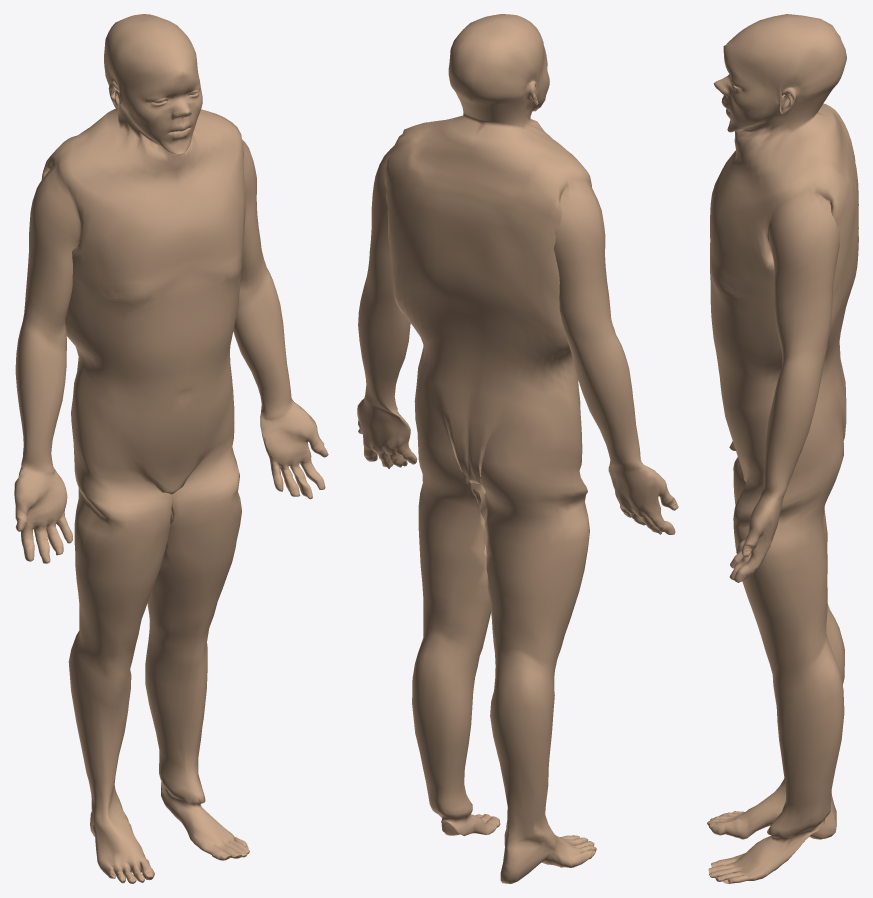
File: skin-candidate-f1c5.glb
3 renders of one model, left to right at view 1: azimuth 30°, elevation 25°; view 2: azimuth 150°, elevation 25°; view 3: azimuth 270°, elevation 25°, orthographic. The views are drawn at different scales.
Visible parts, largest first — view 1: MakeHuman_AT10_skin_fit_candidate_f1c5; view 2: MakeHuman_AT10_skin_fit_candidate_f1c5; view 3: MakeHuman_AT10_skin_fit_candidate_f1c5.
Boxes of the visible parts, x1,y1,x2,y2 form: MakeHuman_AT10_skin_fit_candidate_f1c5: (14, 14, 328, 883); MakeHuman_AT10_skin_fit_candidate_f1c5: (357, 14, 678, 883); MakeHuman_AT10_skin_fit_candidate_f1c5: (707, 14, 858, 883).
Bounding box in the file's own units: 0.6758 × 1.71 × 0.2826.
